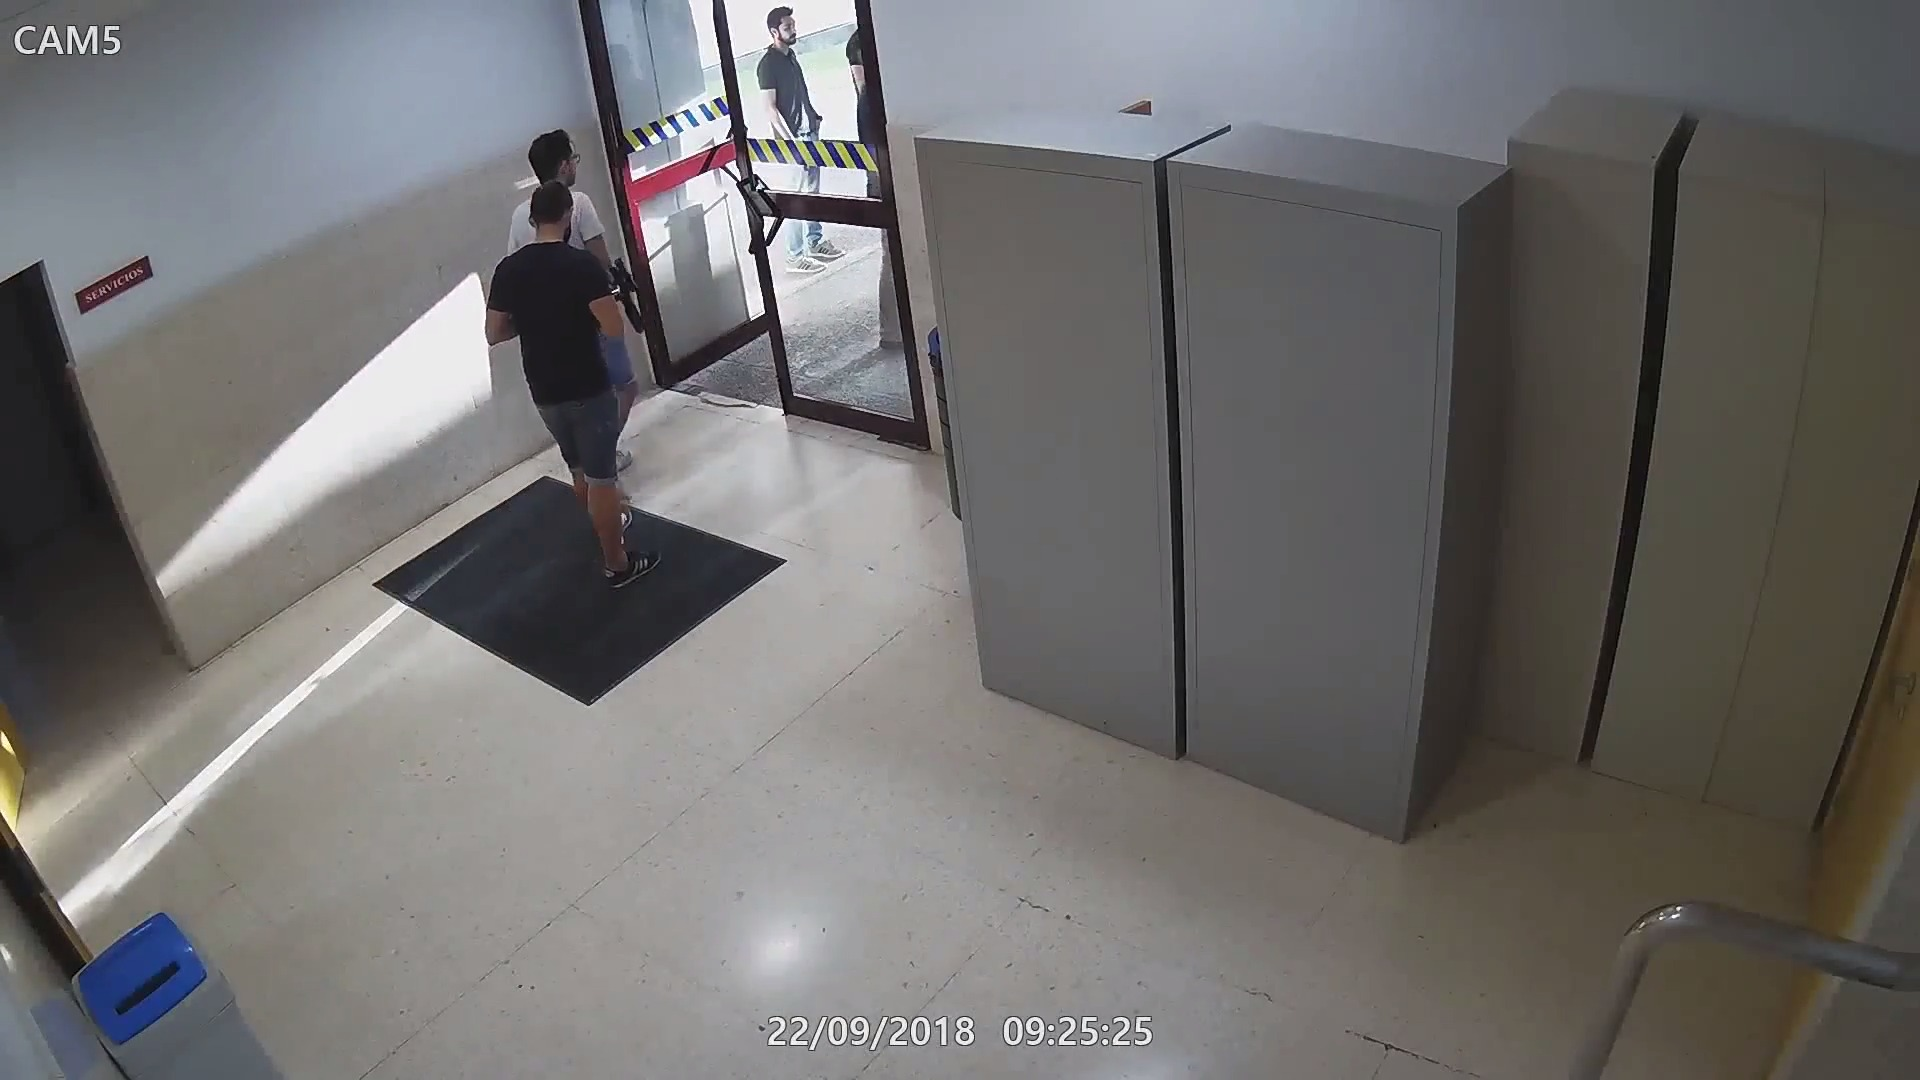Short_rifle: (603, 256, 661, 338)
